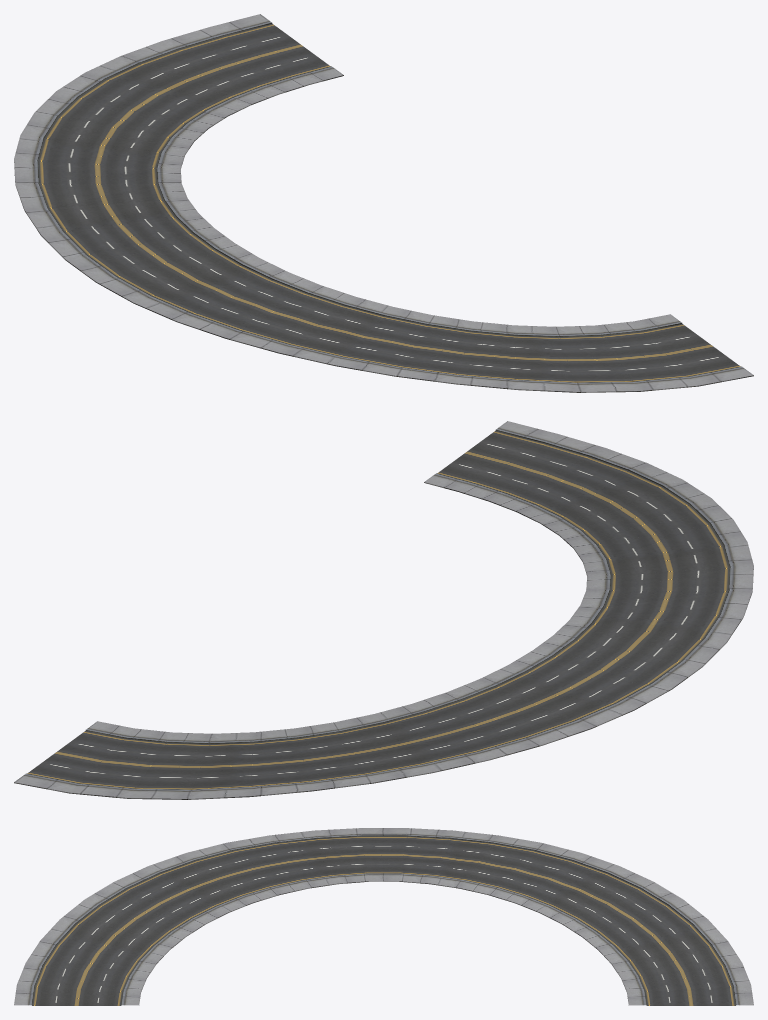
Rendered from road8.glb.
The picture shows the model from 3 angles, top to bottom: view 1: azimuth 30°, elevation 25°; view 2: azimuth 150°, elevation 25°; view 3: azimuth 270°, elevation 25°; orthographic projection. The views are drawn at different scales.
Visible parts, largest first — view 1: ro_8; view 2: ro_8; view 3: ro_8.
Part boxes in pixels (x1,y1,x2,y2): ro_8: (14, 14, 753, 392); ro_8: (14, 421, 753, 799); ro_8: (14, 828, 753, 1005).
Bounding box in the file's own units: 89.5 × 5.84 × 179.
Materials: 1 (1 with a texture image).
